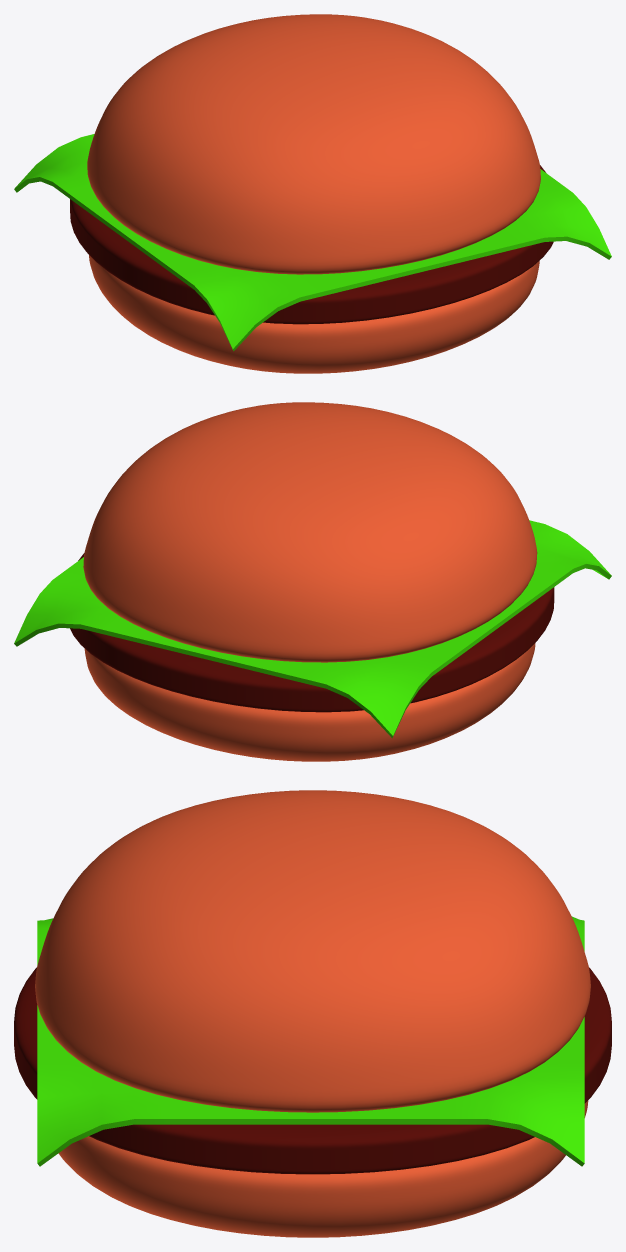
File: Hamburger.gltf
3 renders of one model, top to bottom at view 1: azimuth 30°, elevation 25°; view 2: azimuth 150°, elevation 25°; view 3: azimuth 270°, elevation 25°, orthographic. The views are drawn at different scales.
Visible parts, largest first — view 1: Cube.002, Cube, Plane, Cube.001; view 2: Cube.002, Cube, Plane, Cube.001; view 3: Cube.002, Cube, Plane, Cube.001.
Boxes of the visible parts, <box> form: Cube.002: <box>87,14,540,274</box>; Cube: <box>89,255,539,373</box>; Plane: <box>14,134,611,351</box>; Cube.001: <box>70,165,553,324</box>; Cube.002: <box>83,402,537,662</box>; Cube: <box>84,643,535,761</box>; Plane: <box>14,520,611,738</box>; Cube.001: <box>70,553,554,712</box>; Cube.002: <box>35,790,590,1112</box>; Cube: <box>58,1100,588,1237</box>; Plane: <box>37,916,584,1166</box>; Cube.001: <box>14,967,611,1174</box>.
Size of the model in its own units: 5.93 by 3.55 by 5.93.
